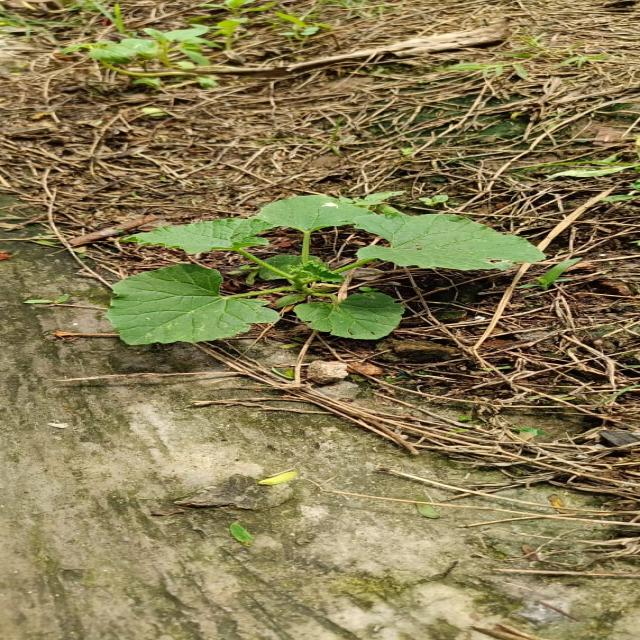plant: (106, 195, 542, 345)
